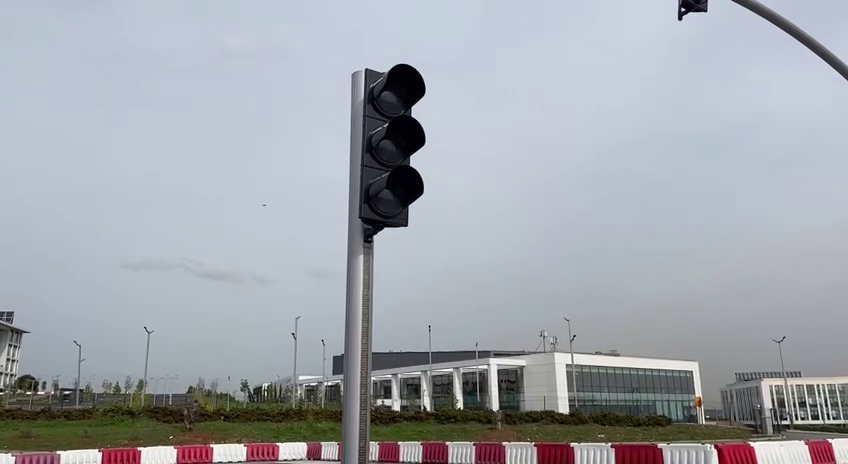trafficLight: (343, 59, 429, 238)
